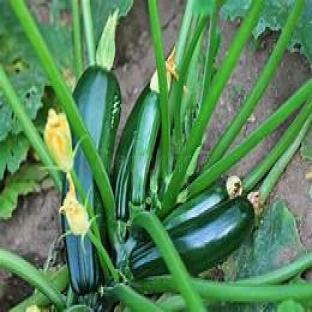Zucchini: (168, 198, 254, 274), (74, 67, 121, 173), (113, 87, 149, 220), (131, 92, 159, 207), (164, 180, 227, 229)
